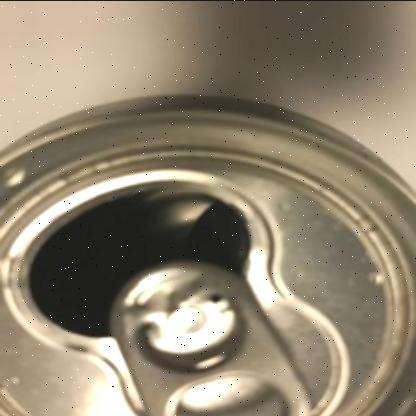Can: (0, 102, 416, 416)
